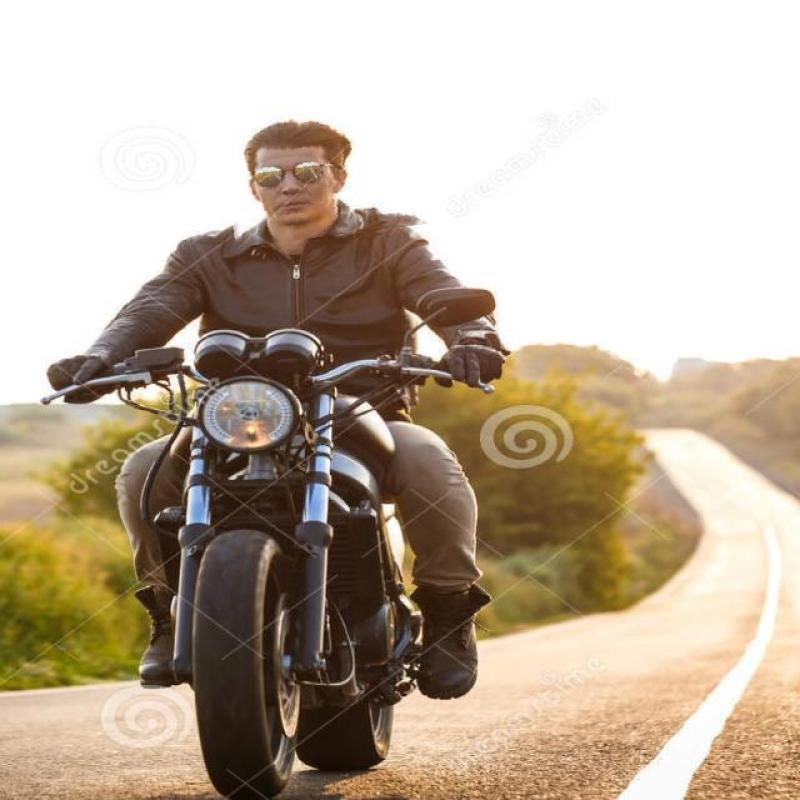nohelmet: (223, 90, 425, 242)
